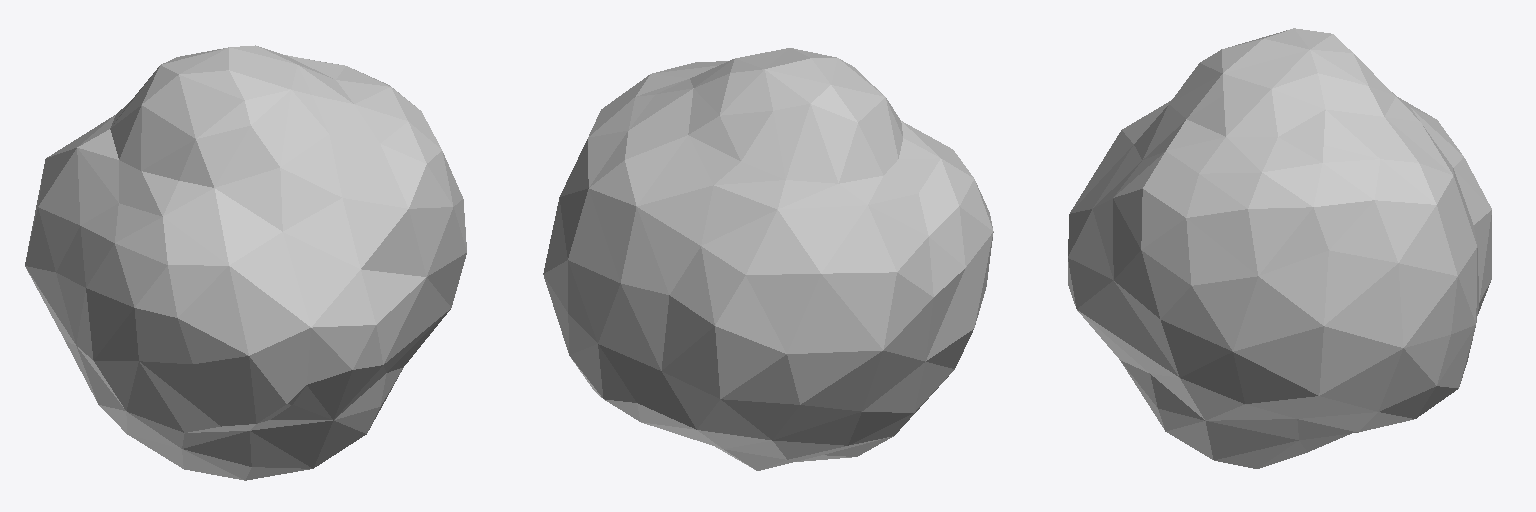
The model's file is stg600_obj_meteoriteB03.obj.
3 renders of one model, left to right at view 1: azimuth 30°, elevation 25°; view 2: azimuth 150°, elevation 25°; view 3: azimuth 270°, elevation 25°, orthographic.
Visible parts, largest first — view 1: polygon0; view 2: polygon0; view 3: polygon0.
Boxes of the visible parts, x1=… form: polygon0: x1=25, y1=45, x2=466, y2=480; polygon0: x1=543, y1=48, x2=993, y2=470; polygon0: x1=1068, y1=28, x2=1491, y2=468.
Bounding box in the file's own units: 143 × 149 × 142.